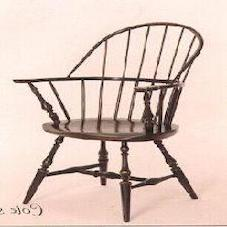chair: (3, 12, 217, 219)
